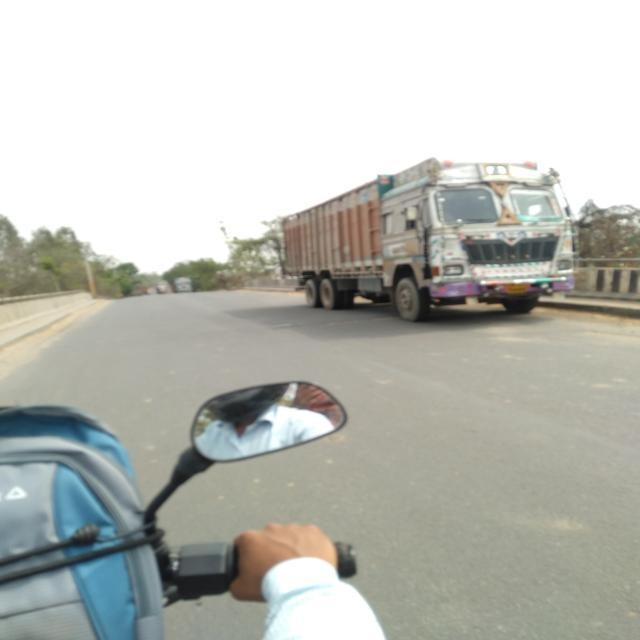Truck: (280, 158, 580, 313)
